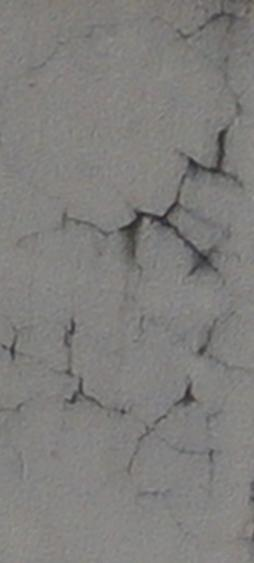fissura: (13, 5, 242, 488)
